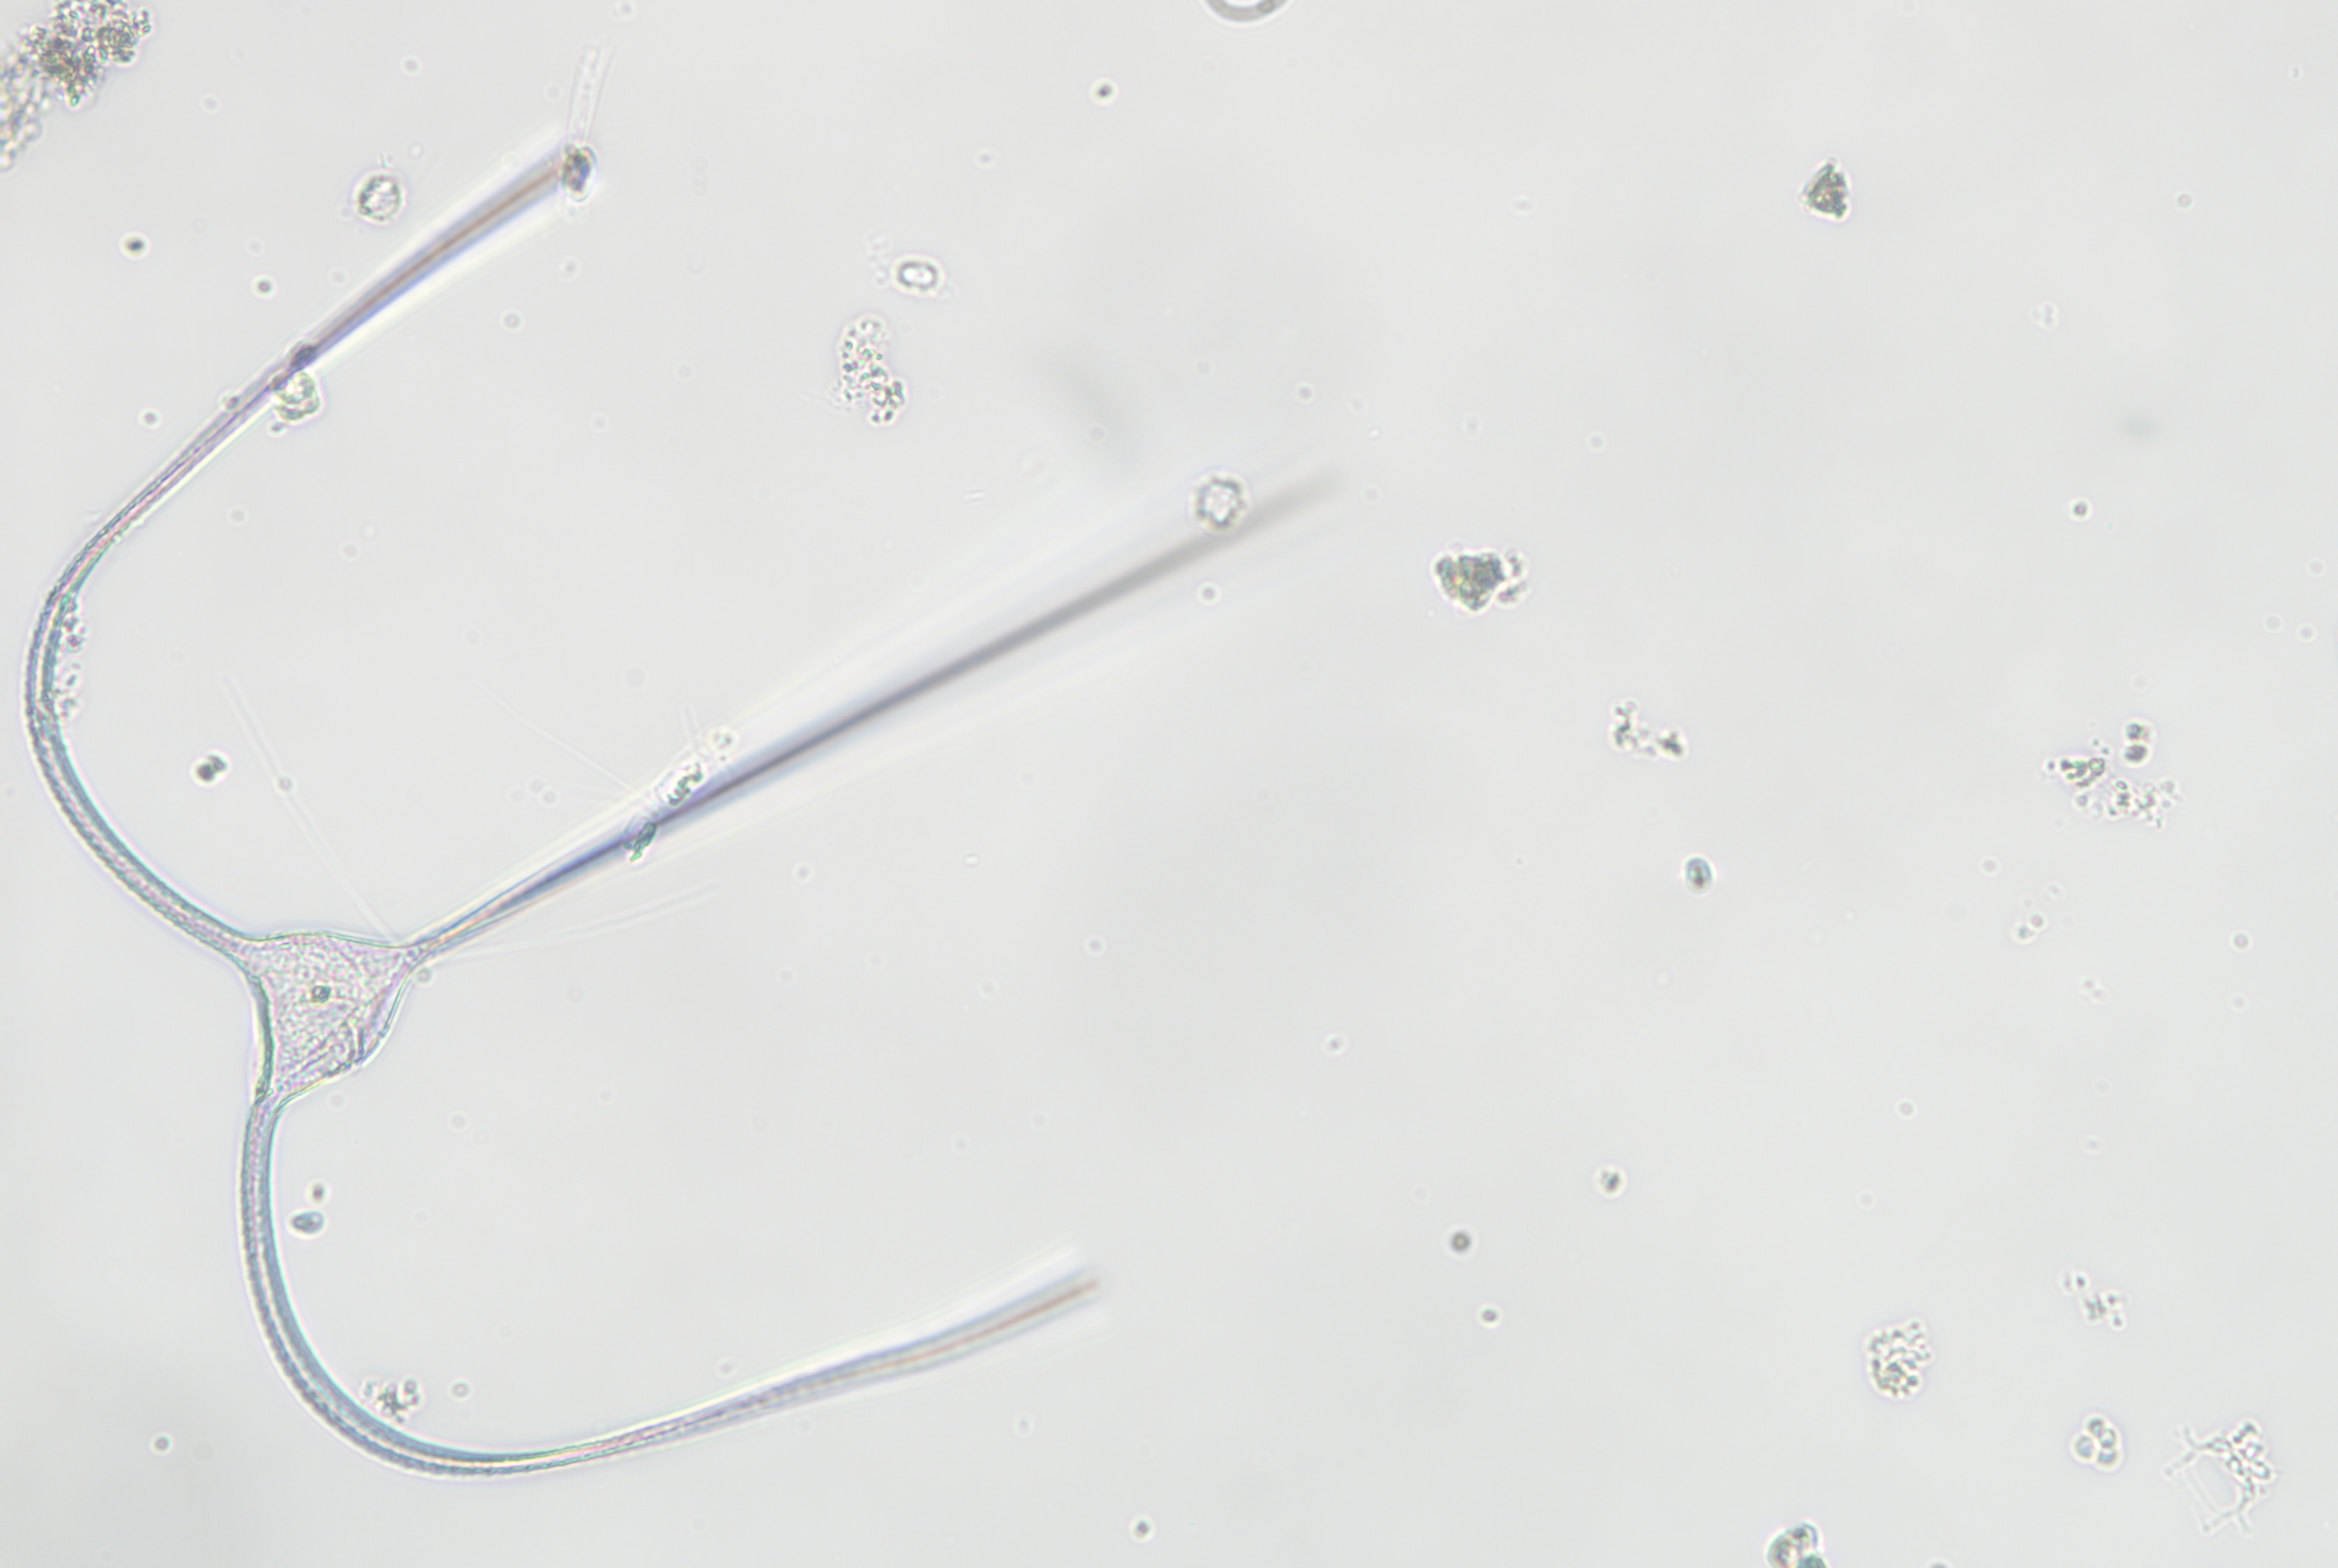ceratium trichoceros: (19, 89, 1369, 1487)
